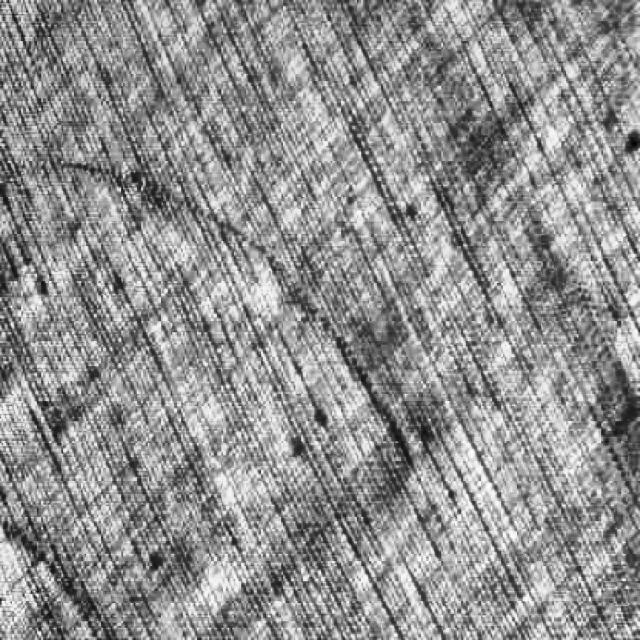objects: (0, 505, 110, 640)
thread_error: (39, 145, 480, 478)
